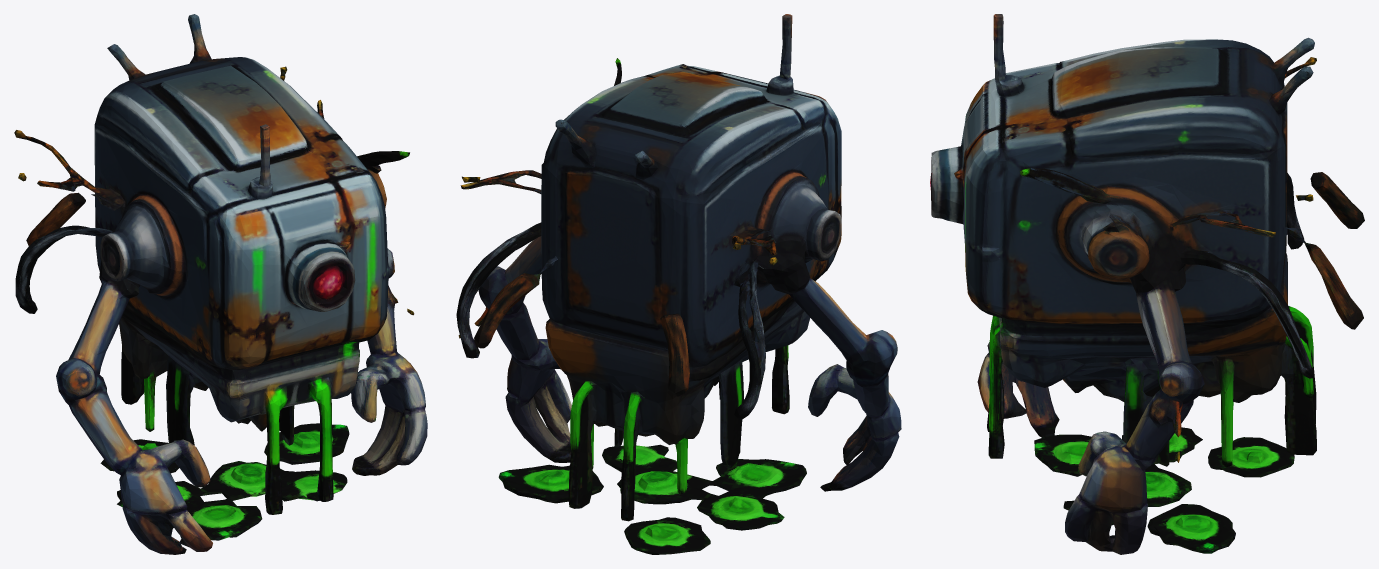
File: corroded-unit.glb
3 renders of one model, left to right at view 1: azimuth 30°, elevation 25°; view 2: azimuth 150°, elevation 25°; view 3: azimuth 270°, elevation 25°, orthographic. The views are drawn at different scales.
Visible parts, largest first — view 1: world; view 2: world; view 3: world.
Boxes of the visible parts, <box> form: world: <box>14,14,427,554</box>; world: <box>456,14,901,554</box>; world: <box>930,14,1364,554</box>.
Bounding box in the file's own units: 0.5926 × 0.6258 × 0.5423.
Materials: 1 (1 with a texture image).
